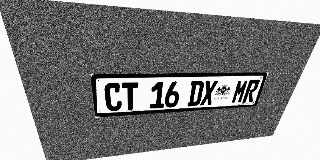1: (150, 82, 166, 109)
6: (164, 81, 181, 108)
C: (104, 83, 122, 111)
D: (187, 81, 205, 106)
M: (231, 80, 249, 103)
R: (242, 79, 261, 103)
T: (122, 82, 138, 110)
X: (200, 80, 218, 105)
